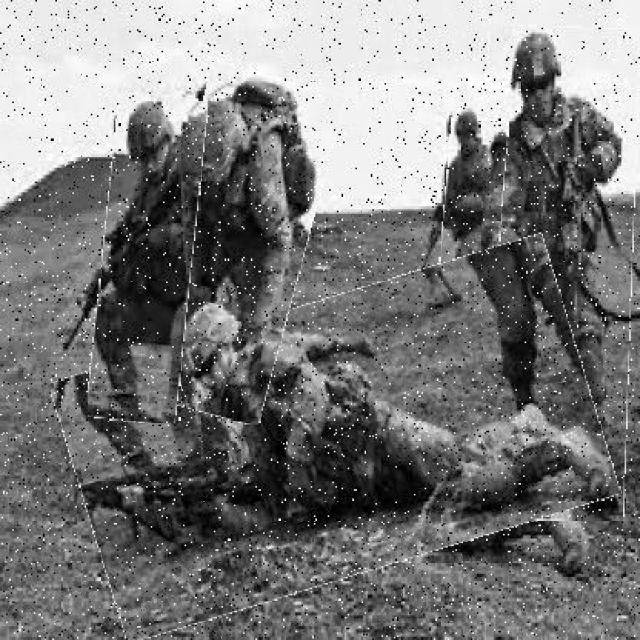Person: (64, 269, 607, 610), (478, 29, 636, 523), (149, 70, 327, 423), (95, 95, 201, 424), (440, 104, 506, 343)
